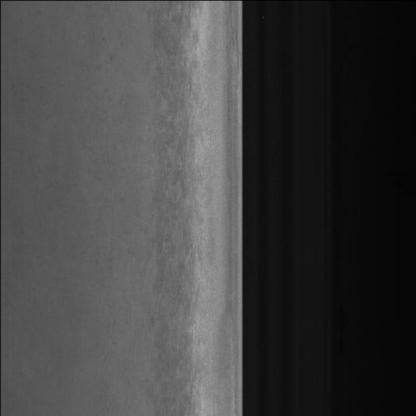silk_spot: (137, 32, 204, 373)
